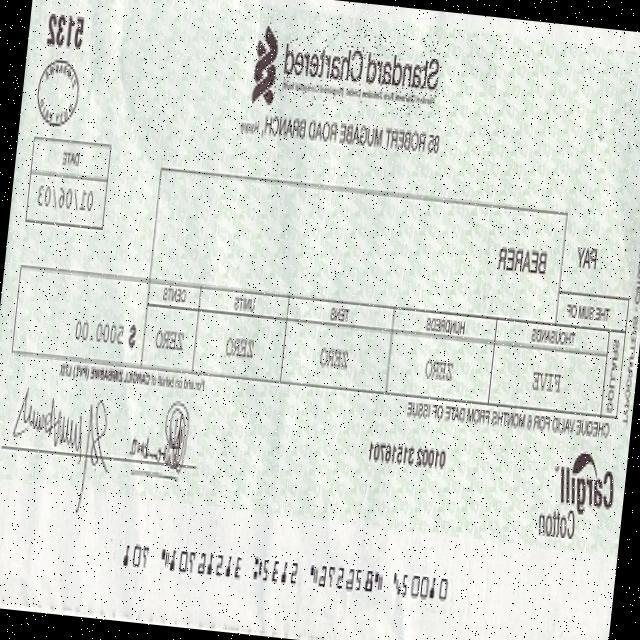Standard Chartered: (249, 21, 444, 120)
